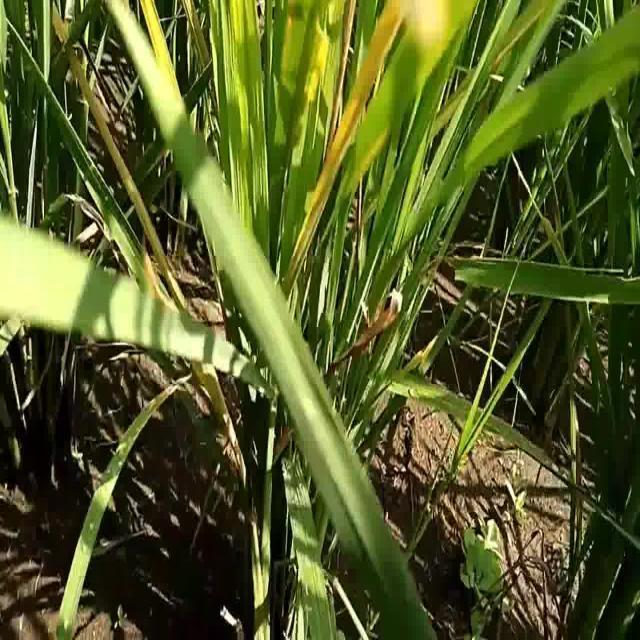Rice Tungro: (300, 3, 414, 239)
